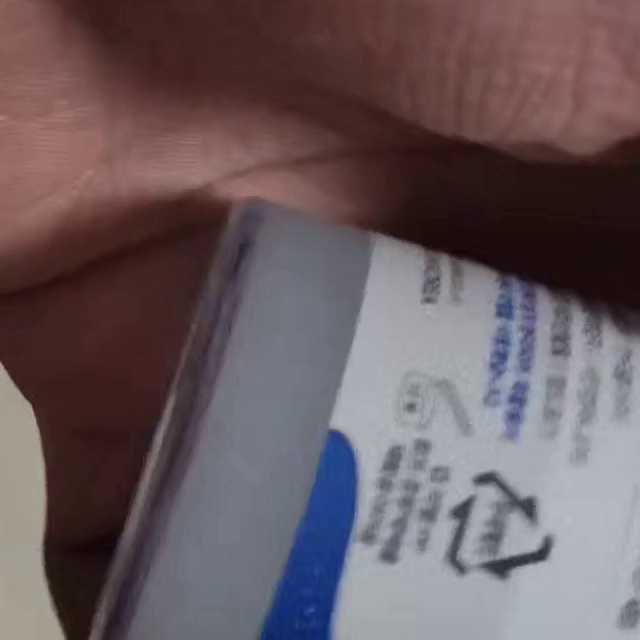ColorlessPet: (444, 468, 555, 583)
